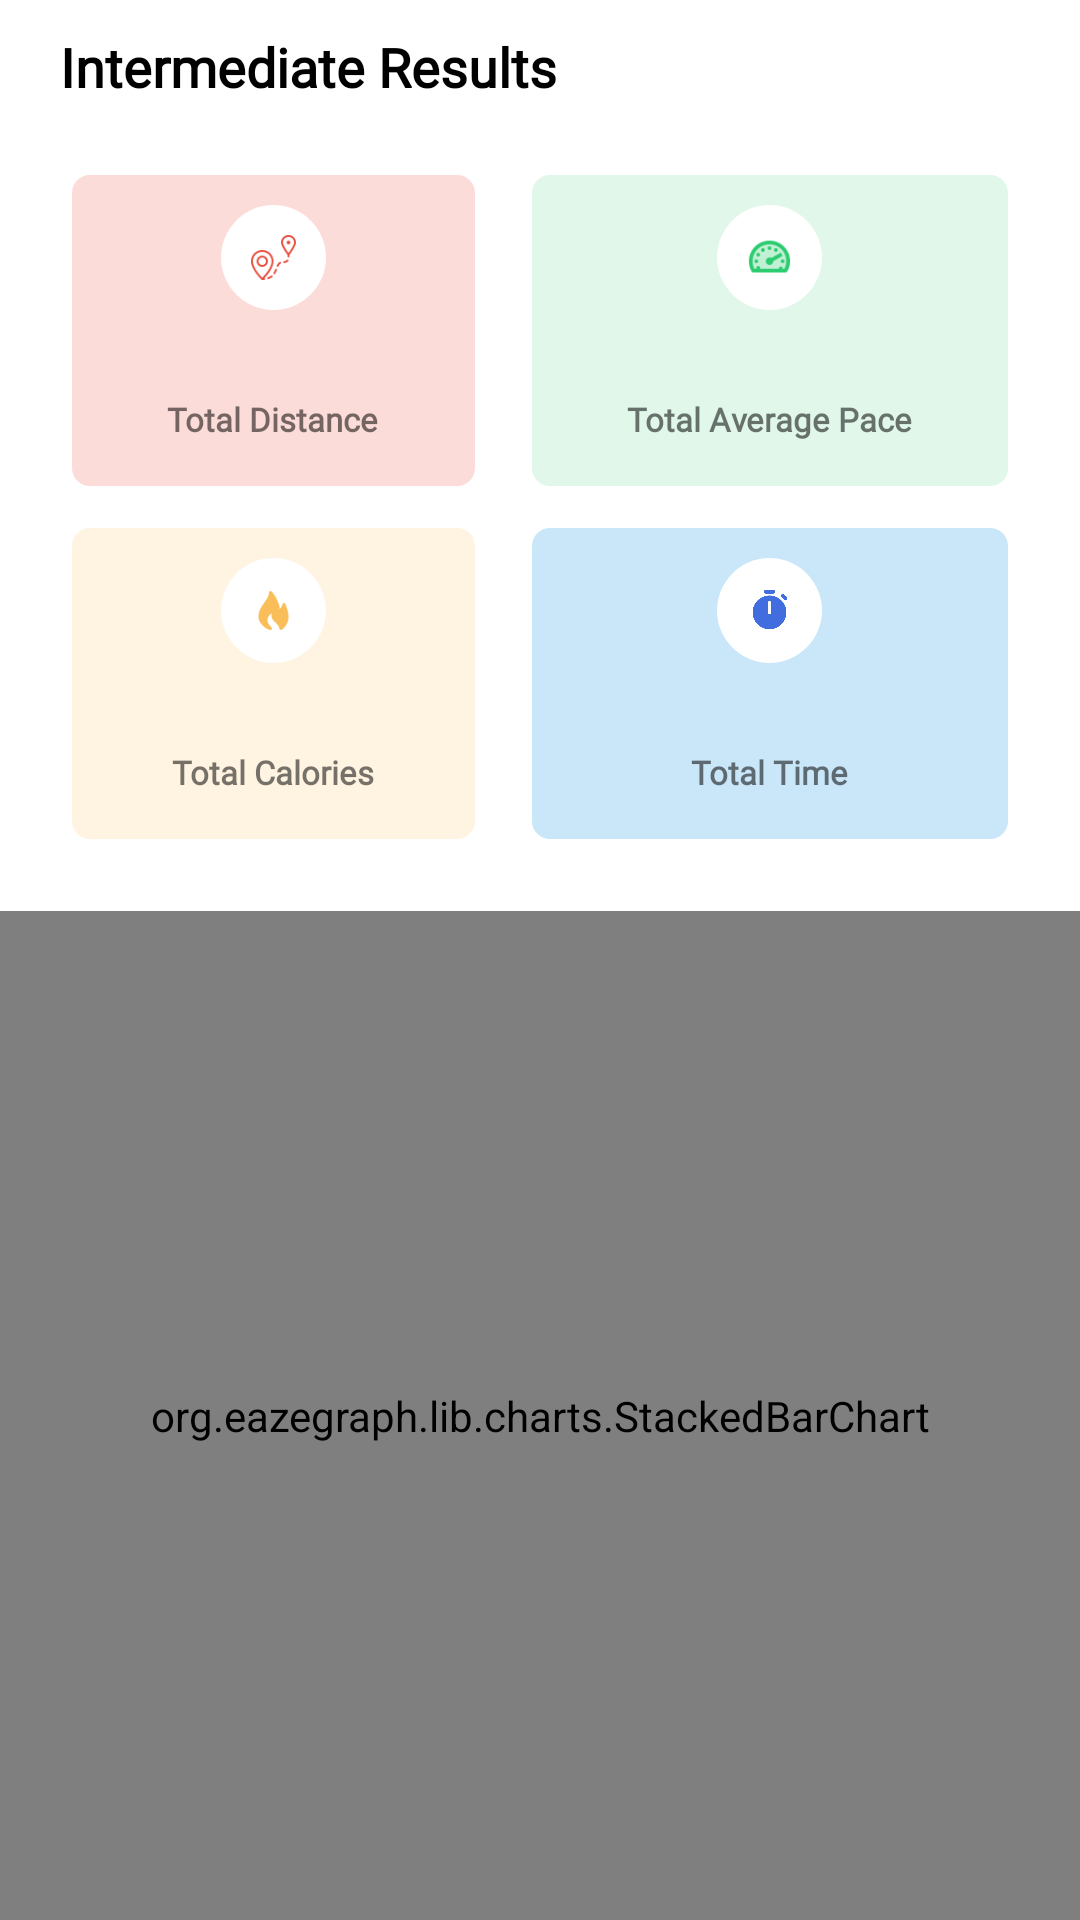

Screen size 1080 x 1920. Icon name, then its center in pixels as (x=x, y=y):
calories burn: (x=273, y=610)
speed: (x=769, y=257)
